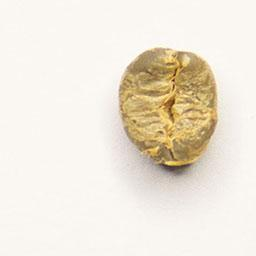premium: (115, 44, 221, 169)
